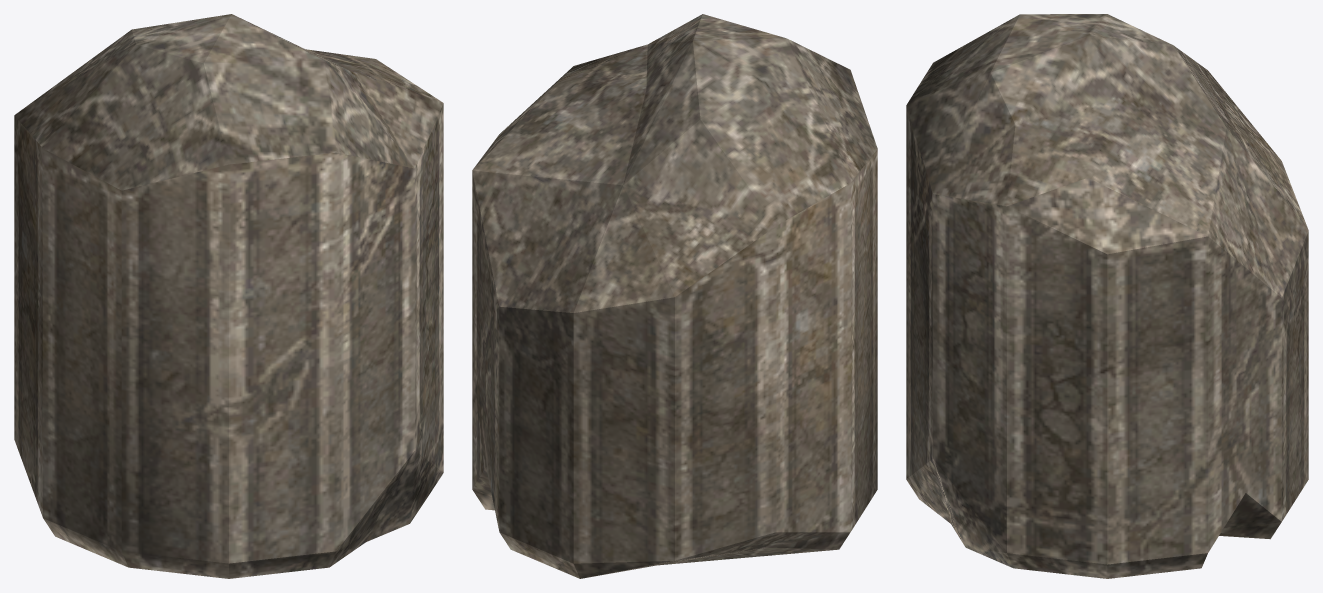
File: bg_lut_lutomb_pillar05_sm_old.FBX
3 views of the same model, side by side, from view 1: azimuth 30°, elevation 25°; view 2: azimuth 150°, elevation 25°; view 3: azimuth 270°, elevation 25° (orthographic). The views are drawn at different scales.
Parts seen in each view (by area): view 1: bg_lut_lutomb_pillar05_sm_old; view 2: bg_lut_lutomb_pillar05_sm_old; view 3: bg_lut_lutomb_pillar05_sm_old.
Boxes of the visible parts, x1,y1,x2,y2 form: bg_lut_lutomb_pillar05_sm_old: [14, 14, 443, 578]; bg_lut_lutomb_pillar05_sm_old: [472, 14, 877, 578]; bg_lut_lutomb_pillar05_sm_old: [906, 14, 1308, 578].
Bounding box in the file's own units: 128 × 161 × 128.
